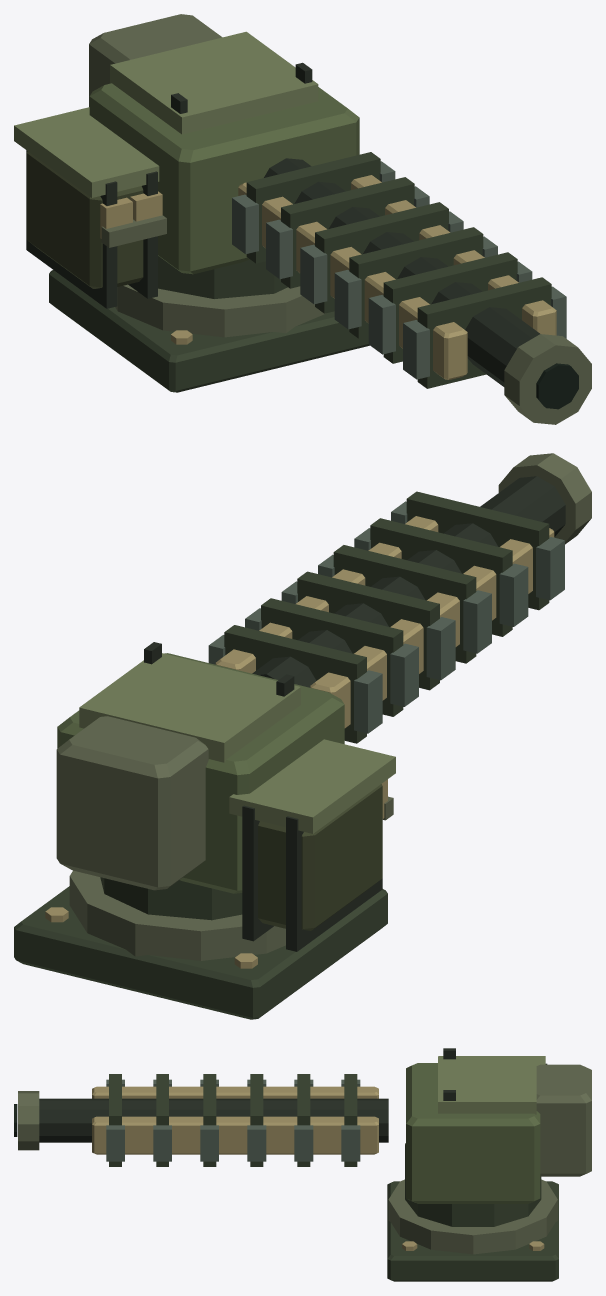
The model's file is railgun.obj.
The picture shows the model from 3 angles, top to bottom: view 1: azimuth 30°, elevation 25°; view 2: azimuth 150°, elevation 25°; view 3: azimuth 270°, elevation 25°; orthographic projection. The views are drawn at different scales.
Parts seen in each view (by area): view 1: MOVING.010, BASE.021; view 2: MOVING.010, BASE.021; view 3: MOVING.010, BASE.021.
Part boxes in pixels (box(x1,y1,x2,y2)): MOVING.010: box(14, 14, 591, 424); BASE.021: box(49, 270, 369, 392); MOVING.010: box(56, 453, 591, 951); BASE.021: box(14, 870, 387, 1019); MOVING.010: box(14, 1048, 591, 1226); BASE.021: box(387, 1179, 558, 1281).
Bounding box in the file's own units: 0.9225 × 0.815 × 2.46.
Materials: 1 (1 with a texture image).
